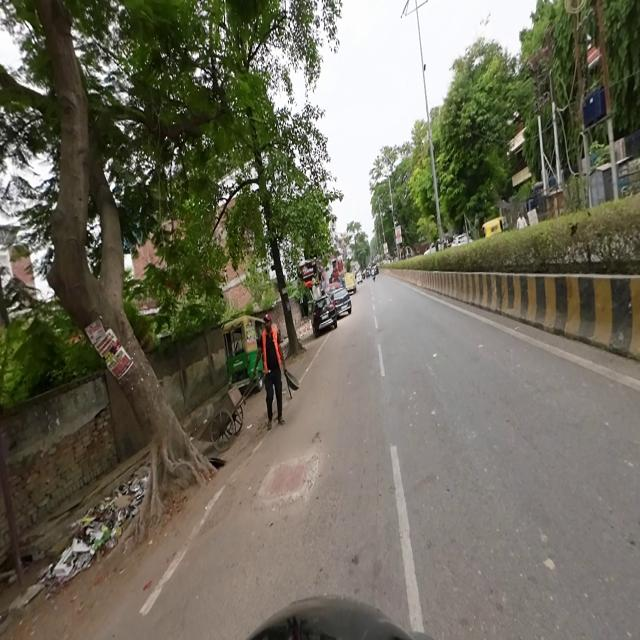Garbage: (47, 534, 122, 587), (88, 481, 144, 526)
